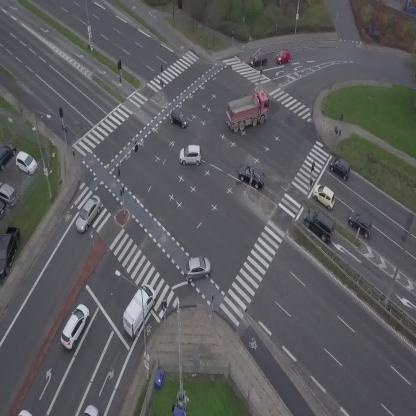car: (55, 301, 95, 351), (298, 204, 341, 245), (70, 193, 106, 234), (344, 207, 379, 239), (234, 160, 270, 191), (308, 180, 341, 212), (181, 253, 214, 283), (326, 154, 355, 181), (167, 108, 191, 129), (179, 145, 201, 165), (248, 50, 269, 67), (273, 47, 292, 65), (80, 404, 98, 416)
lorry: (114, 281, 162, 339), (222, 89, 275, 134)
